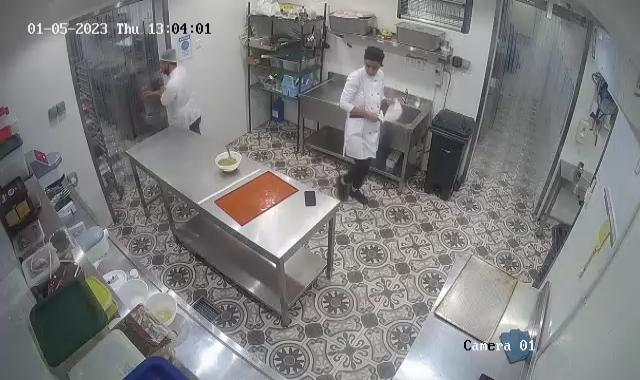no_hairnet: (364, 45, 387, 68)
